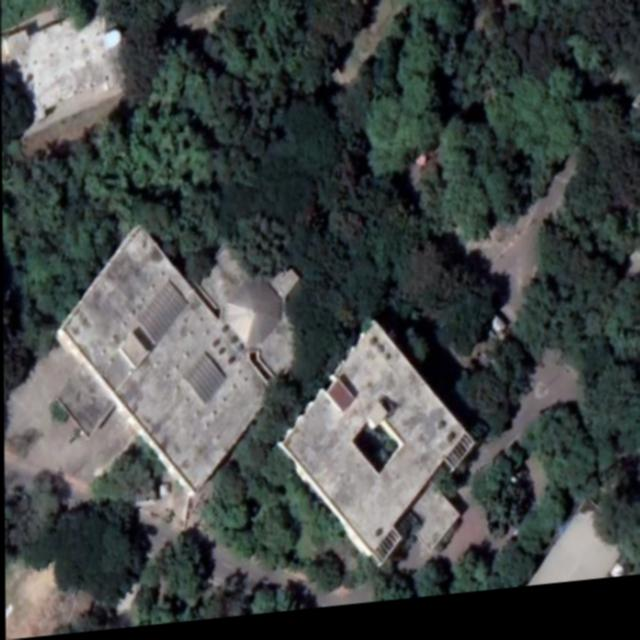Batiment: (58, 230, 290, 494), (280, 329, 473, 572), (1, 11, 123, 156)
